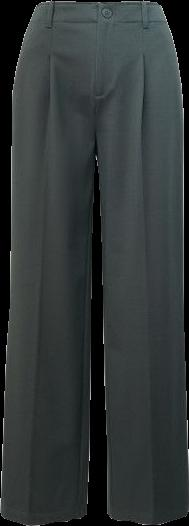Hemline: (105, 507, 188, 525), (0, 510, 88, 525)
Pantleg: (1, 1, 94, 524), (95, 2, 188, 523)
Waistline: (28, 16, 168, 26), (32, 0, 159, 10)
